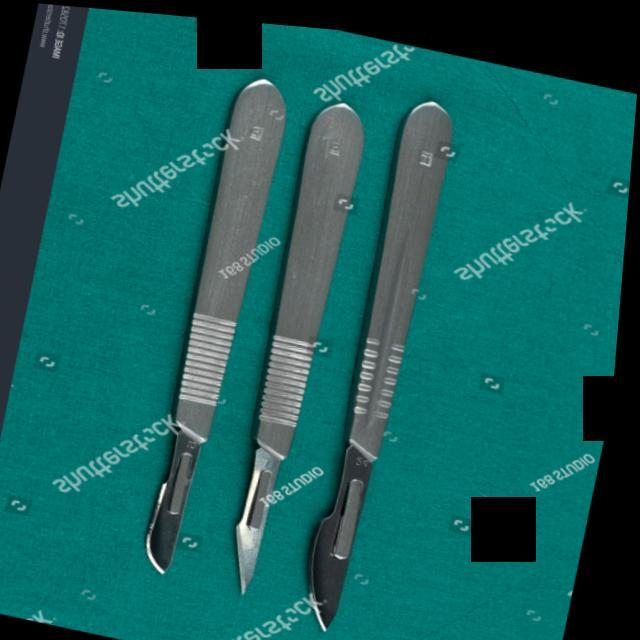Knife handle: (146, 65, 294, 522), (326, 78, 456, 558)
Surgical blade: (236, 87, 371, 532), (298, 431, 396, 635), (220, 434, 300, 598), (140, 418, 223, 576)
